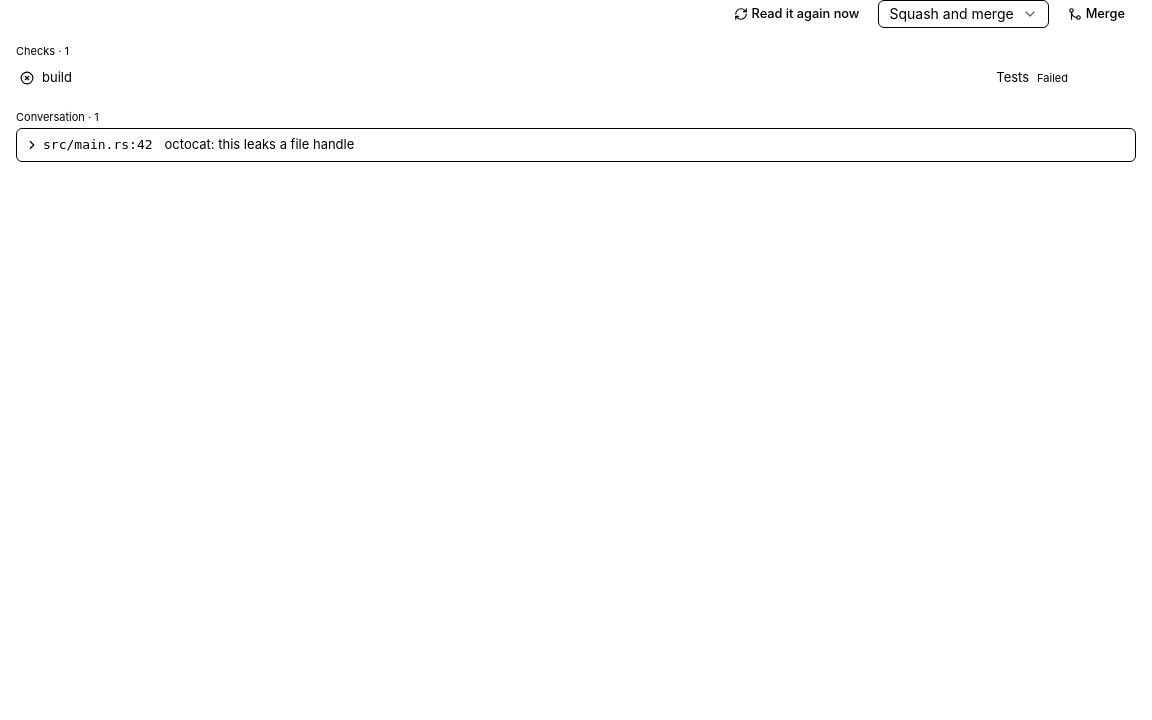
Test: PullRequestReviewView › says what a refused action said rather than swallowing it
Click the button "Merge" at [1096, 14], box [1057,0,1136,28]
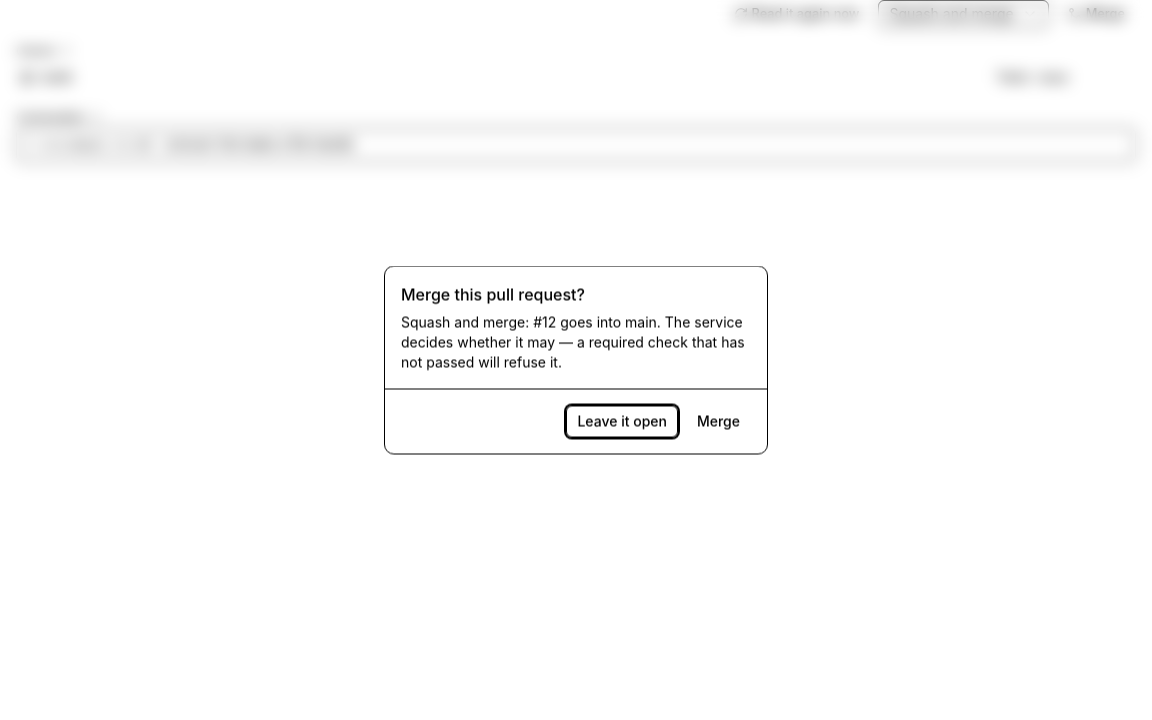
Click the button "Merge" at [718, 422], box [686,406,751,438]
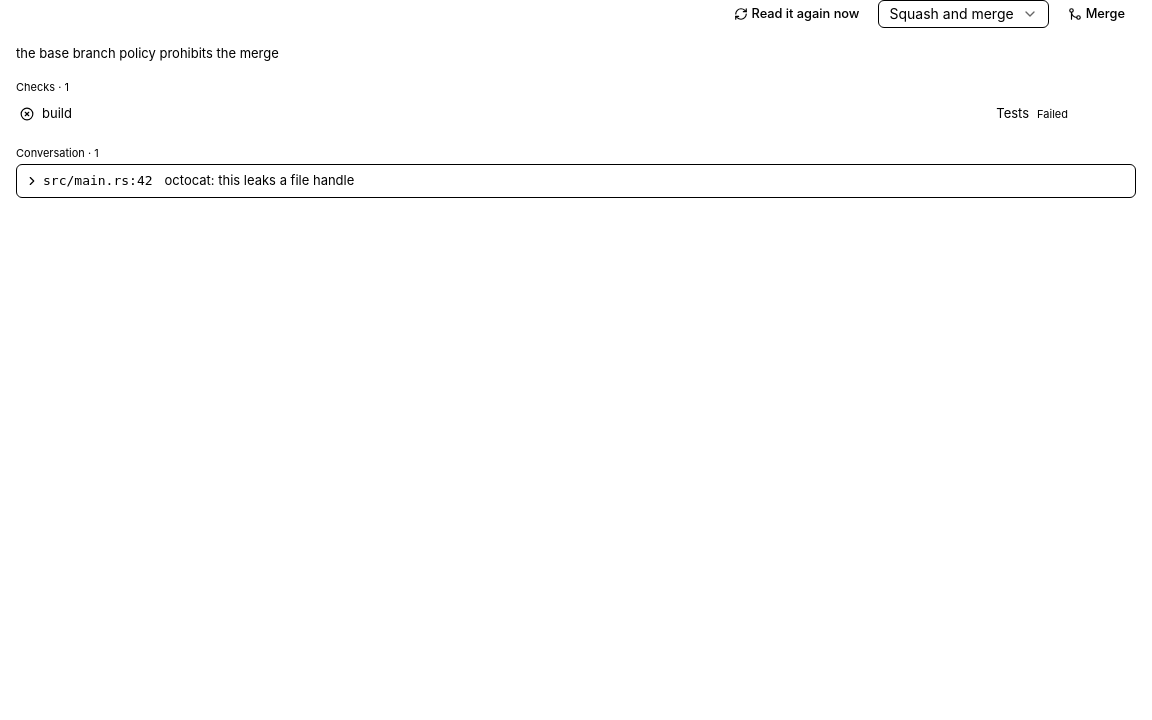
Now the message shows "prohibits", box [16,45,279,61]
